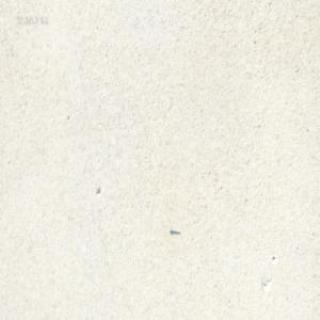Nailtrack_idkeyframe: (168, 225, 180, 233)
